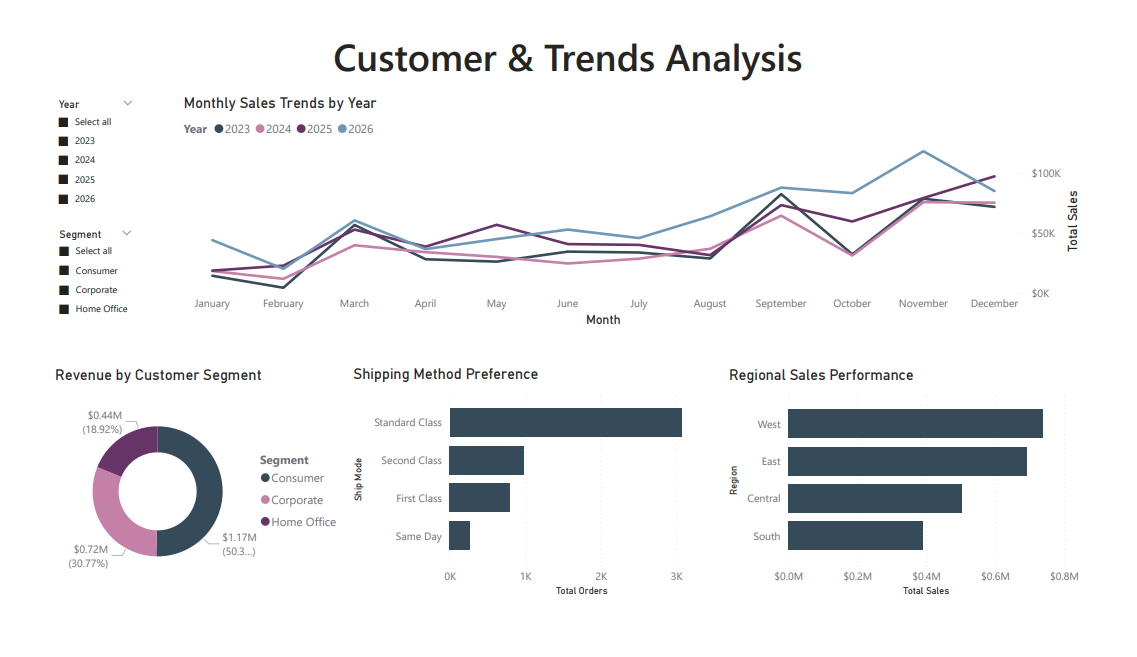

This screenshot's page, from the dashboard's own definition file:
{"tool":"powerbi","page":{"name":"Customer & Trends","canvas":[1280,720],"ordinal":2},"visuals":[{"type":"textbox","box":[137.6,16.2,1003.9,77.7],"z":0},{"type":"lineChart","title":"Monthly Sales Trends by Year","fields":{"Category":["sample_-_superstore.Order Date.Variation.Date Hierarchy.Month"],"Y2":["sample_-_superstore.Total Sales"],"Series":["sample_-_superstore.Year"]},"box":[195.9,93.9,1033.1,270.4],"z":1000},{"type":"donutChart","title":"Revenue by Customer Segment","fields":{"Category":["sample_-_superstore.Segment"],"Y":["sample_-_superstore.Total Sales"]},"box":[48.6,404.8,341.7,267.2],"z":2000},{"type":"clusteredBarChart","title":"Shipping Method Preference","fields":{"Category":["sample_-_superstore.Ship Mode"],"Y":["sample_-_superstore.Total Orders"]},"box":[390.2,403.2,429.1,268.8],"z":3000},{"type":"clusteredBarChart","title":"Regional Sales Performance","fields":{"Category":["sample_-_superstore.Region"],"Y":["sample_-_superstore.Total Sales"]},"box":[819.3,404.8,409.7,267.2],"z":4000},{"type":"slicer","fields":{"Values":["sample_-_superstore.Year"]},"box":[45.3,93.9,110.1,150.6],"z":5000},{"type":"slicer","fields":{"Values":["sample_-_superstore.Segment"]},"box":[47,241.3,106.9,118.2],"z":6000}]}

Visuals, with their boxes in screenshot pixels (x1, y1, x2, y2), scaled from the page's 1280x720 canvas onto the 1137x657 screenshot:
textbox: {"left": 122, "top": 15, "right": 1014, "bottom": 86}
"Monthly Sales Trends by Year" lineChart: {"left": 174, "top": 86, "right": 1092, "bottom": 332}
"Revenue by Customer Segment" donutChart: {"left": 43, "top": 369, "right": 347, "bottom": 613}
"Shipping Method Preference" clusteredBarChart: {"left": 347, "top": 368, "right": 728, "bottom": 613}
"Regional Sales Performance" clusteredBarChart: {"left": 728, "top": 369, "right": 1092, "bottom": 613}
slicer - sample_-_superstore.Year: {"left": 40, "top": 86, "right": 138, "bottom": 223}
slicer - sample_-_superstore.Segment: {"left": 42, "top": 220, "right": 137, "bottom": 328}
